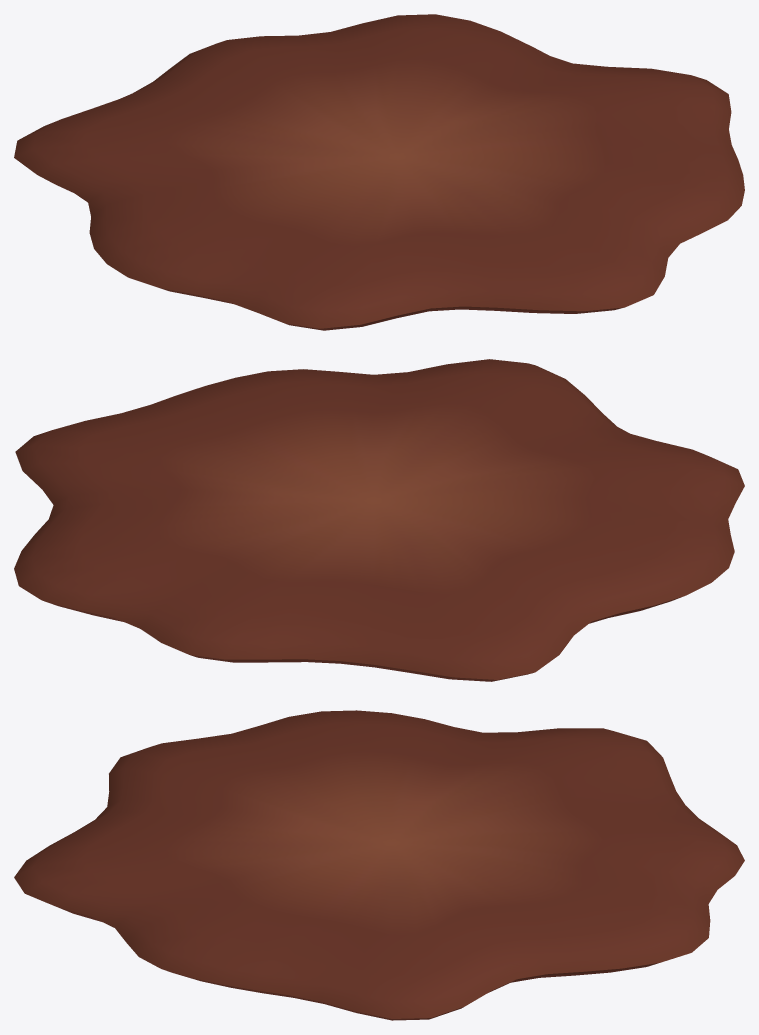
Rendered from topping.glb.
3 renders of one model, top to bottom at view 1: azimuth 30°, elevation 25°; view 2: azimuth 150°, elevation 25°; view 3: azimuth 270°, elevation 25°, orthographic. The views are drawn at different scales.
Visible parts, largest first — view 1: body; view 2: body; view 3: body.
Part boxes in pixels (<box>): body: <box>14,14,744,330</box>; body: <box>14,359,744,681</box>; body: <box>14,710,744,1020</box>.
Size of the model in its own units: 0.9528 by 0.05 by 0.9601.
